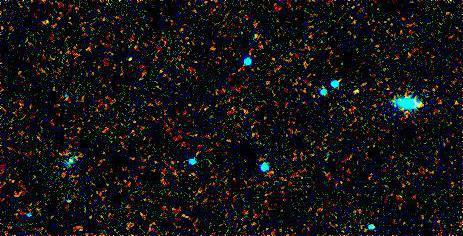star: (340, 76, 370, 106)
